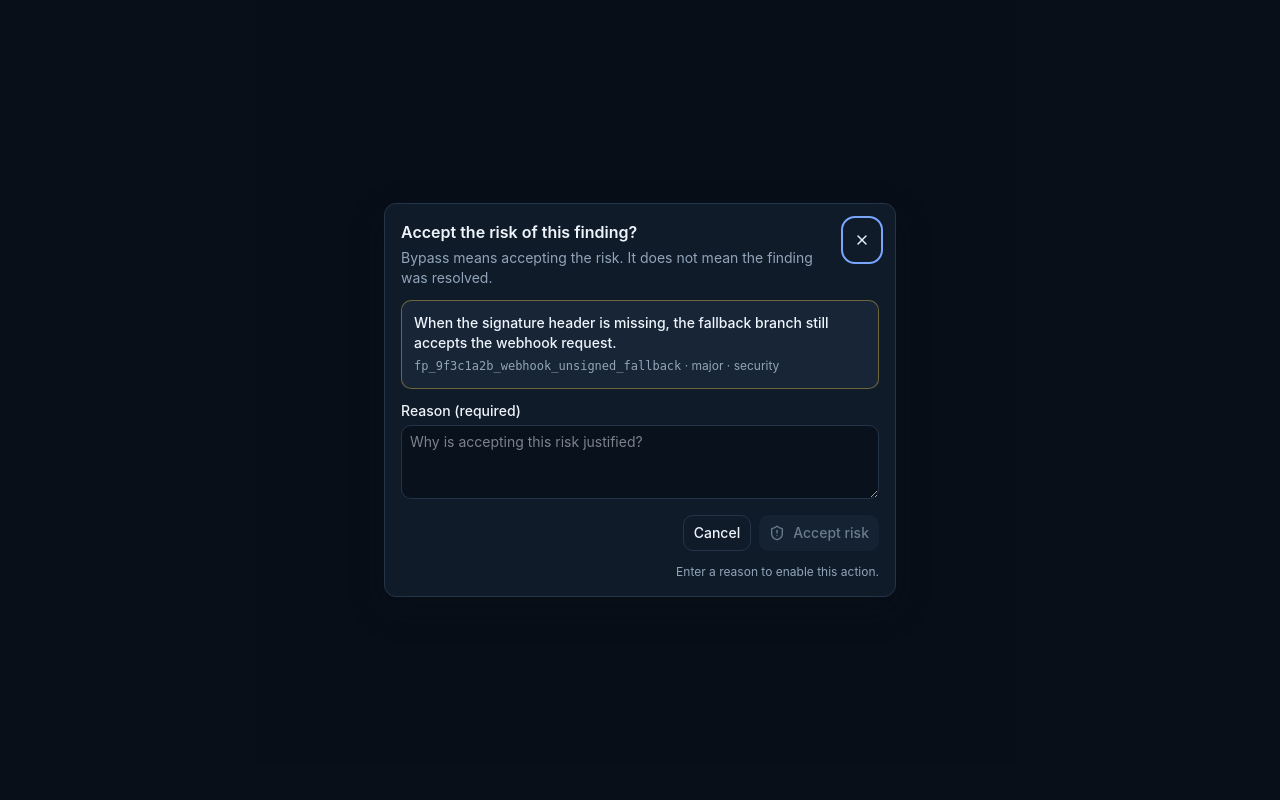
BypassRiskDialog (real submission) › keeps the typed reason on 503 so the user can retry
The width and height of the screenshot is (1280, 800).
Type "keep me" into the text box at (640, 462), box [401,424,879,498]
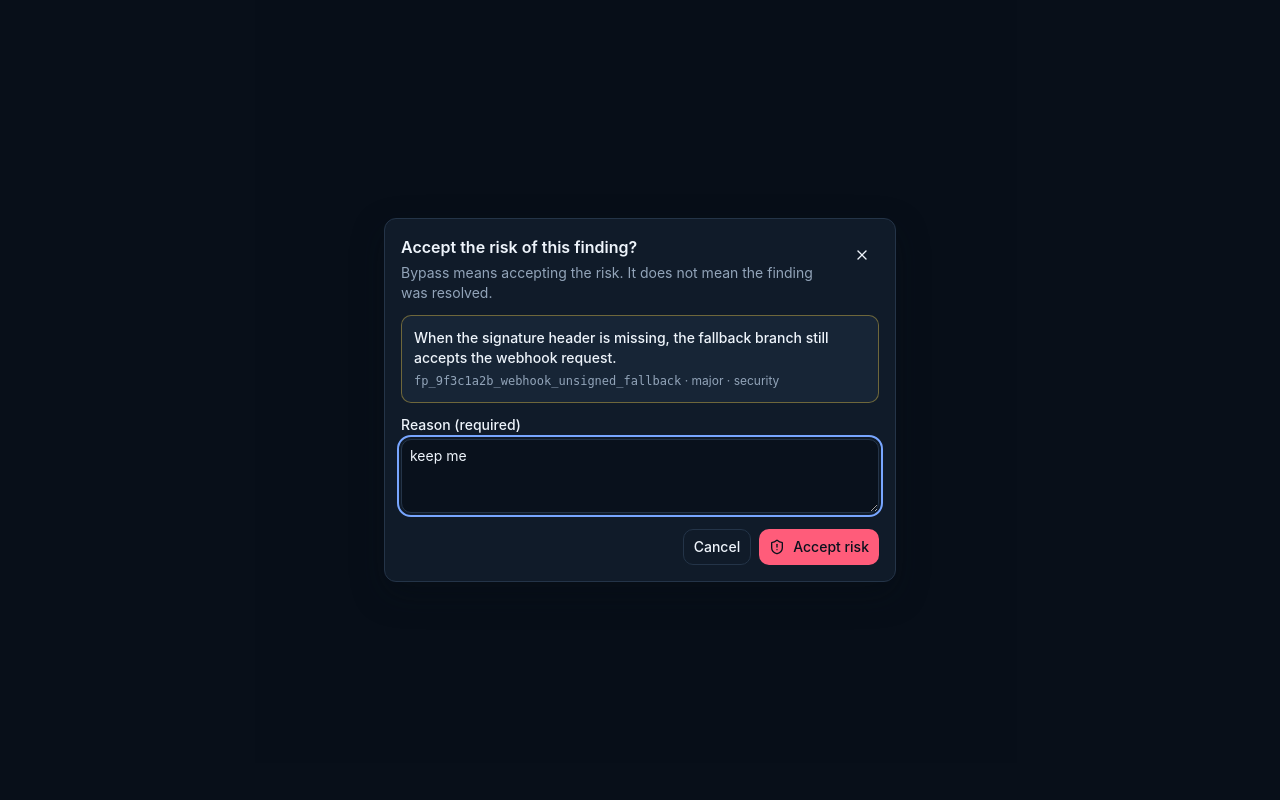
Click the button "Accept risk" at (819, 547), box [759,529,879,565]
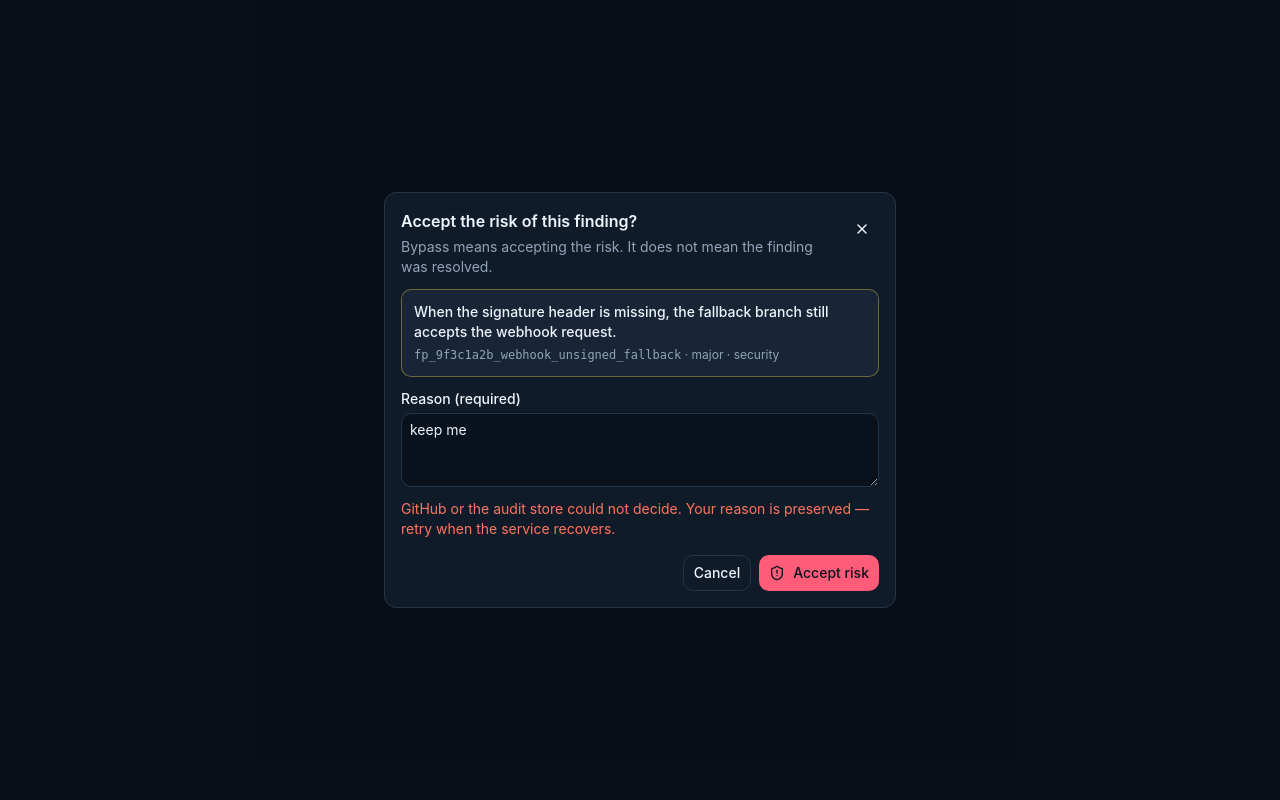
Now the message shows "reason is preserved", box [401,500,869,537]
